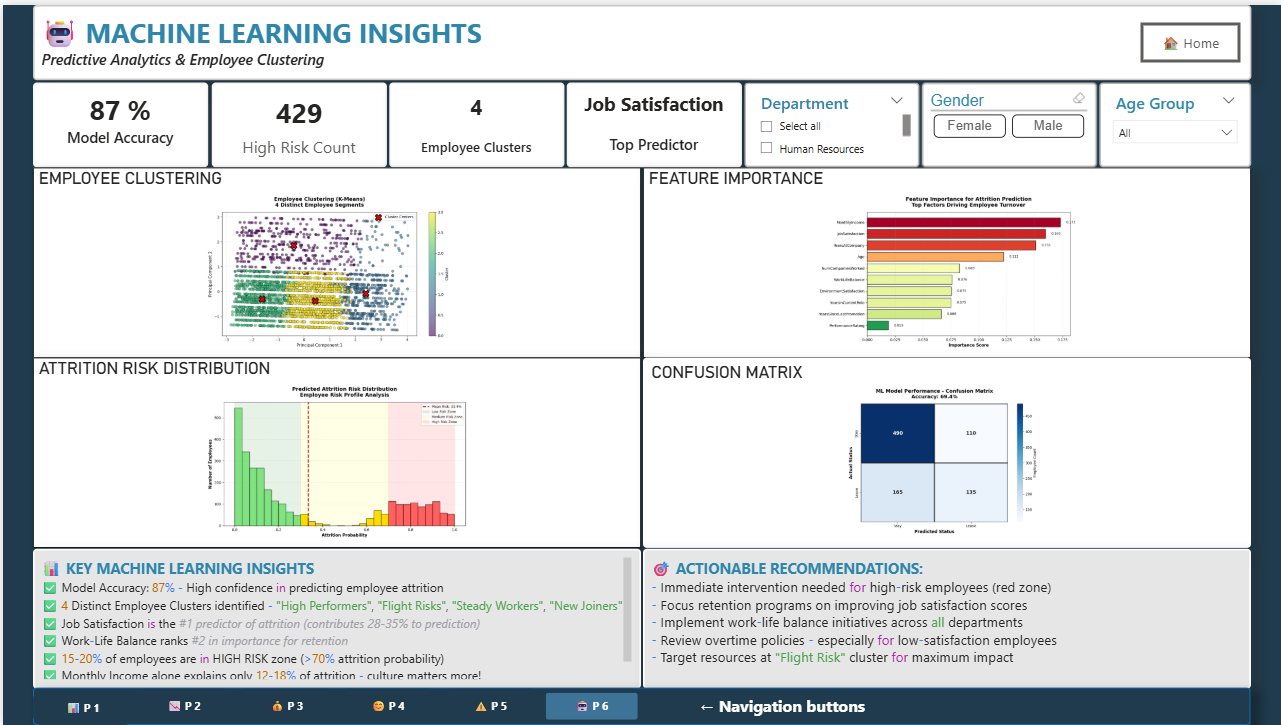

Layout of this report page (visuals, bound fields, positions):
{"tool":"powerbi","page":{"name":"ML Insights","canvas":[1280,720],"ordinal":5},"visuals":[{"type":"textbox","box":[30,0,1218,75],"z":0},{"type":"textbox","box":[30.6,77.5,175,85],"z":1000},{"type":"card","fields":{"Values":["06. Risk Analysis.High Risk Count"]},"box":[208.2,77.5,175,85],"z":2000},{"type":"textbox","box":[385.7,77.5,175,85],"z":3000},{"type":"textbox","box":[563.3,77,175,85],"z":4000},{"type":"pythonVisual","title":"EMPLOYEE CLUSTERING","fields":{"Values":["HR_Analytics_Enhanced.Age","HR_Analytics_Enhanced.MonthlyIncome","HR_Analytics_Enhanced.YearsAtCompany","HR_Analytics_Enhanced.JobSatisfaction","HR_Analytics_Enhanced.WorkLifeBalance","HR_Analytics_Enhanced.PerformanceRating"]},"box":[30,162,608,190],"z":5000},{"type":"pythonVisual","title":"FEATURE IMPORTANCE","fields":{"Values":["HR_Analytics_Enhanced.Age","HR_Analytics_Enhanced.MonthlyIncome","HR_Analytics_Enhanced.YearsAtCompany","HR_Analytics_Enhanced.JobSatisfaction","HR_Analytics_Enhanced.WorkLifeBalance","HR_Analytics_Enhanced.PerformanceRating","HR_Analytics_Enhanced.YearsInCurrentRole","HR_Analytics_Enhanced.YearsSinceLastPromotion","HR_Analytics_Enhanced.EnvironmentSatisfaction","HR_Analytics_Enhanced.NumCompaniesWorked","HR_Analytics_Enhanced.Attrition"]},"box":[640,162,608,190],"z":6000},{"type":"pythonVisual","title":"ATTRITION RISK DISTRIBUTION ","fields":{"Values":["HR_Analytics_Enhanced.Age","HR_Analytics_Enhanced.MonthlyIncome","HR_Analytics_Enhanced.YearsAtCompany","HR_Analytics_Enhanced.JobSatisfaction","HR_Analytics_Enhanced.WorkLifeBalance","HR_Analytics_Enhanced.PerformanceRating","HR_Analytics_Enhanced.Attrition"]},"box":[30,353,608,190],"z":7000},{"type":"pythonVisual","title":"CONFUSION MATRIX","fields":{"Values":["HR_Analytics_Enhanced.Age","HR_Analytics_Enhanced.MonthlyIncome","HR_Analytics_Enhanced.YearsAtCompany","HR_Analytics_Enhanced.JobSatisfaction","HR_Analytics_Enhanced.WorkLifeBalance","HR_Analytics_Enhanced.PerformanceRating","HR_Analytics_Enhanced.Attrition"]},"box":[640,353,608,190],"z":8000},{"type":"textbox","box":[30,544,608,140],"z":9000},{"type":"textbox","box":[640,544,608,140],"z":10000},{"type":"slicer","fields":{"Values":["HR_Analytics_Enhanced.Department"]},"box":[740.9,77,175,85],"z":11000},{"type":"ChicletSlicer1448559807354","fields":{"Category":["HR_Analytics_Enhanced.Gender"]},"box":[918.4,77,175,85],"z":12000},{"type":"slicer","fields":{"Values":["HR_Analytics_Enhanced.Age_Group"]},"box":[1096,77.5,152,85],"z":13000},{"type":"actionButton","box":[1137.5,17.5,100,40],"z":20000},{"type":"shape","box":[30,682.5,1217.5,37.5],"z":20001},{"type":"textbox","box":[692.5,685,200,33],"z":20002},{"type":"actionButton","box":[30,685,100,35],"z":20003},{"type":"actionButton","box":[131.8,684,100,35],"z":20004},{"type":"actionButton","box":[233.5,684,100,35],"z":20005},{"type":"actionButton","box":[335.2,684,100,35],"z":20006},{"type":"actionButton","box":[437,684,100,35],"z":20007},{"type":"actionButton","box":[538.8,683.8,100,35],"z":20008}]}

Visuals, with their boxes in screenshot pixels (x1, y1, x2, y2), scaled from the page's 1280x720 canvas onto the 1281x725 screenshot:
textbox: box(30, 0, 1249, 76)
textbox: box(31, 78, 206, 164)
card - 06. Risk Analysis.High Risk Count: box(208, 78, 383, 164)
textbox: box(386, 78, 561, 164)
textbox: box(564, 78, 739, 163)
"EMPLOYEE CLUSTERING" pythonVisual: box(30, 163, 638, 354)
"FEATURE IMPORTANCE" pythonVisual: box(640, 163, 1249, 354)
"ATTRITION RISK DISTRIBUTION " pythonVisual: box(30, 355, 638, 547)
"CONFUSION MATRIX" pythonVisual: box(640, 355, 1249, 547)
textbox: box(30, 548, 638, 689)
textbox: box(640, 548, 1249, 689)
slicer - HR_Analytics_Enhanced.Department: box(741, 78, 917, 163)
ChicletSlicer1448559807354 - HR_Analytics_Enhanced.Gender: box(919, 78, 1094, 163)
slicer - HR_Analytics_Enhanced.Age_Group: box(1097, 78, 1249, 164)
actionButton: box(1138, 18, 1238, 58)
shape: box(30, 687, 1248, 724)
textbox: box(693, 690, 893, 723)
actionButton: box(30, 690, 130, 724)
actionButton: box(132, 689, 232, 724)
actionButton: box(234, 689, 334, 724)
actionButton: box(335, 689, 436, 724)
actionButton: box(437, 689, 537, 724)
actionButton: box(539, 689, 639, 724)
